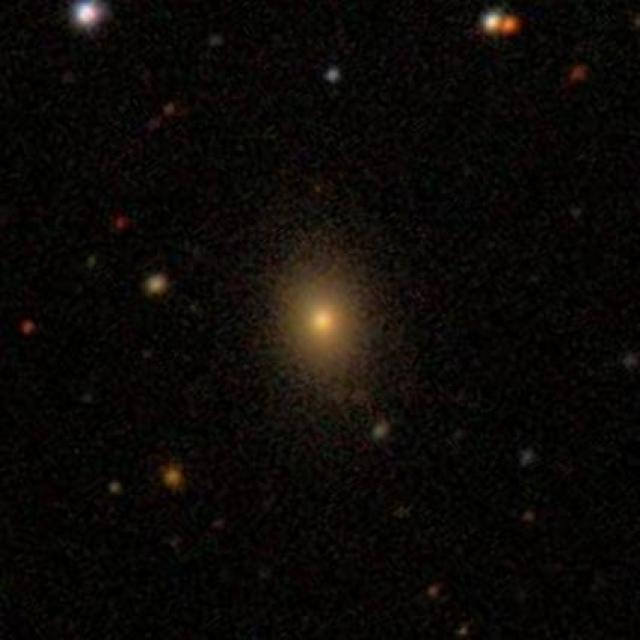galaxy: (238, 204, 402, 448), (58, 1, 112, 46), (477, 5, 530, 43), (162, 459, 189, 491), (17, 314, 44, 343), (144, 271, 171, 299), (369, 421, 395, 446), (80, 252, 106, 277), (206, 514, 232, 538), (101, 476, 126, 500), (202, 29, 225, 55), (618, 351, 640, 377), (322, 68, 347, 89), (567, 66, 591, 86), (518, 448, 540, 468), (450, 622, 473, 640), (156, 101, 177, 119), (521, 508, 538, 530), (424, 583, 441, 603), (80, 390, 97, 409), (116, 217, 131, 234)
